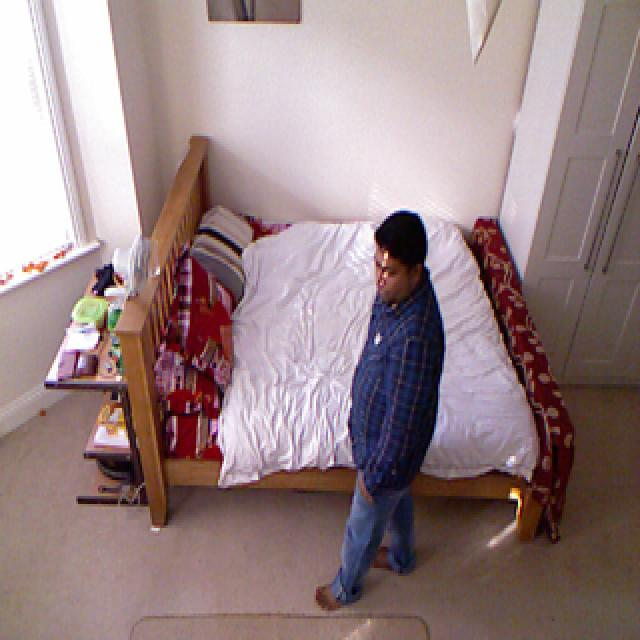standing: (328, 209, 448, 610)
